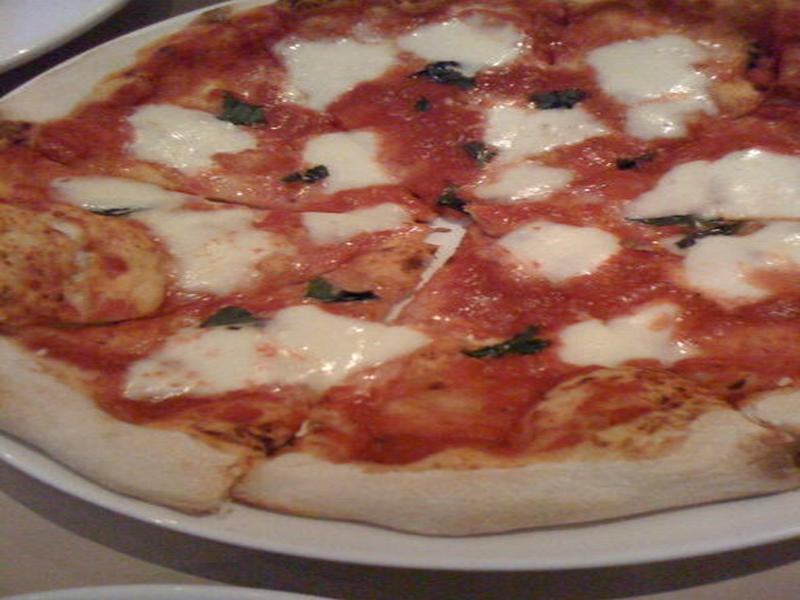pizza: (25, 18, 800, 518)
